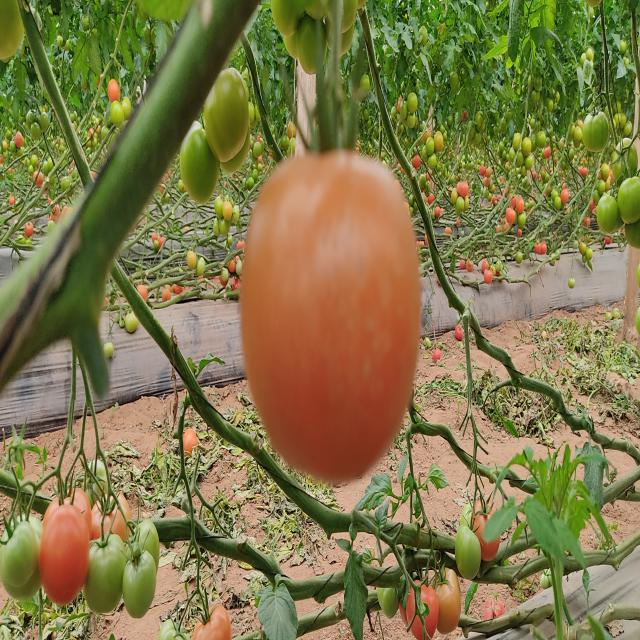Ripe Tomato: (244, 151, 426, 485), (40, 507, 89, 597)
Unripe Tomato: (202, 65, 248, 164), (86, 526, 124, 619), (178, 121, 218, 199), (0, 514, 38, 592), (124, 546, 158, 622)
